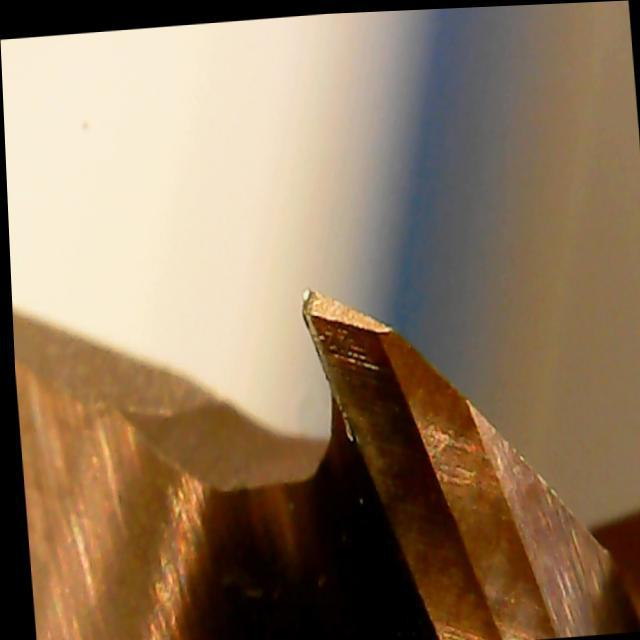Tool-wear-class-1: (284, 273, 465, 514)
